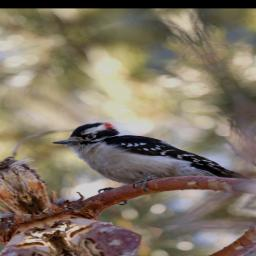Woodpecker: (47, 97, 249, 219)
